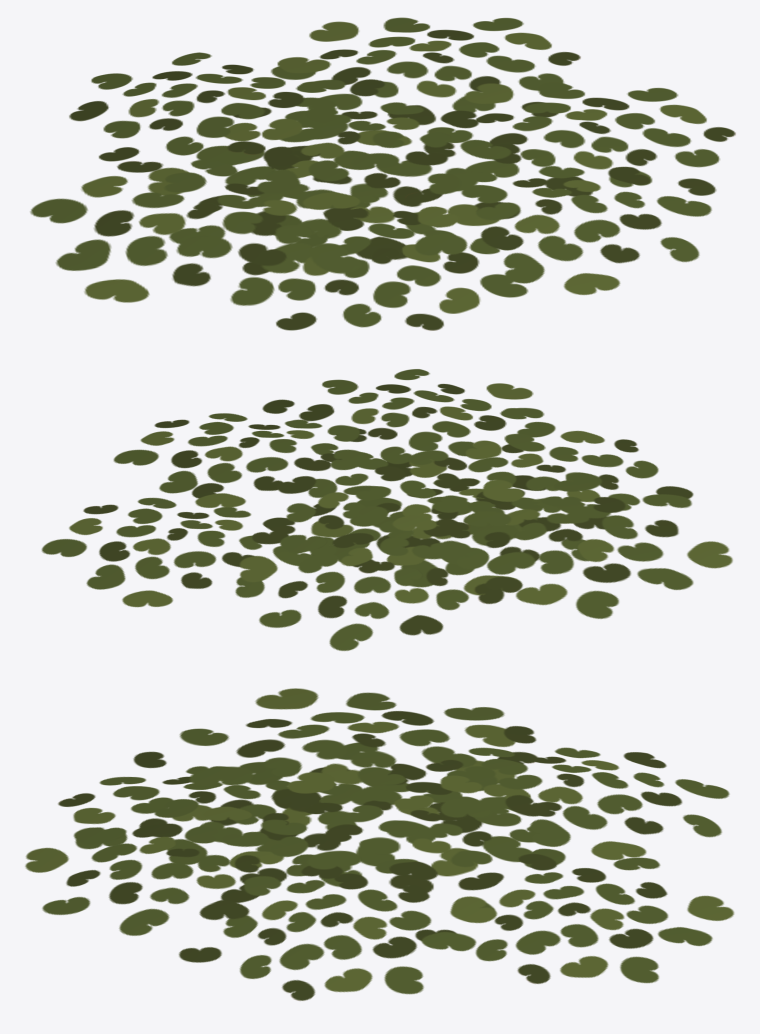
The model's file is Asarabacca_3.glb.
The picture shows the model from 3 angles, top to bottom: view 1: azimuth 30°, elevation 25°; view 2: azimuth 150°, elevation 25°; view 3: azimuth 270°, elevation 25°; orthographic projection. The views are drawn at different scales.
Visible parts, largest first — view 1: Asarabacca_3; view 2: Asarabacca_3; view 3: Asarabacca_3.
Boxes of the visible parts, box(x1,y1,x2,y2) form: Asarabacca_3: box(30, 17, 735, 330); Asarabacca_3: box(41, 369, 732, 650); Asarabacca_3: box(25, 688, 734, 1000).
Bounding box in the file's own units: 1.64 × 0.1111 × 1.5.
Materials: 1 (1 with a texture image).
